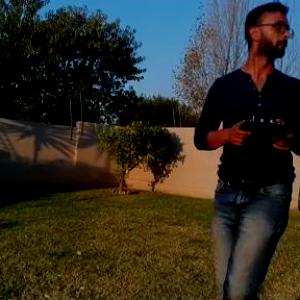follow: (189, 0, 299, 299)
